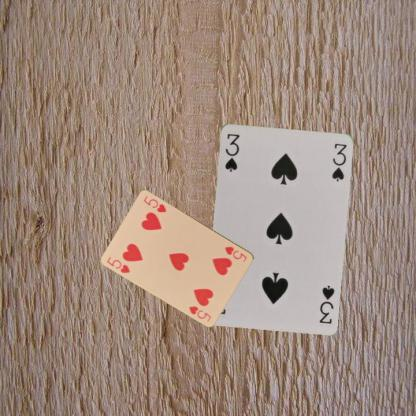3s: (316, 282, 336, 324), (222, 130, 241, 172)
5h: (105, 254, 131, 274), (223, 244, 249, 263)
